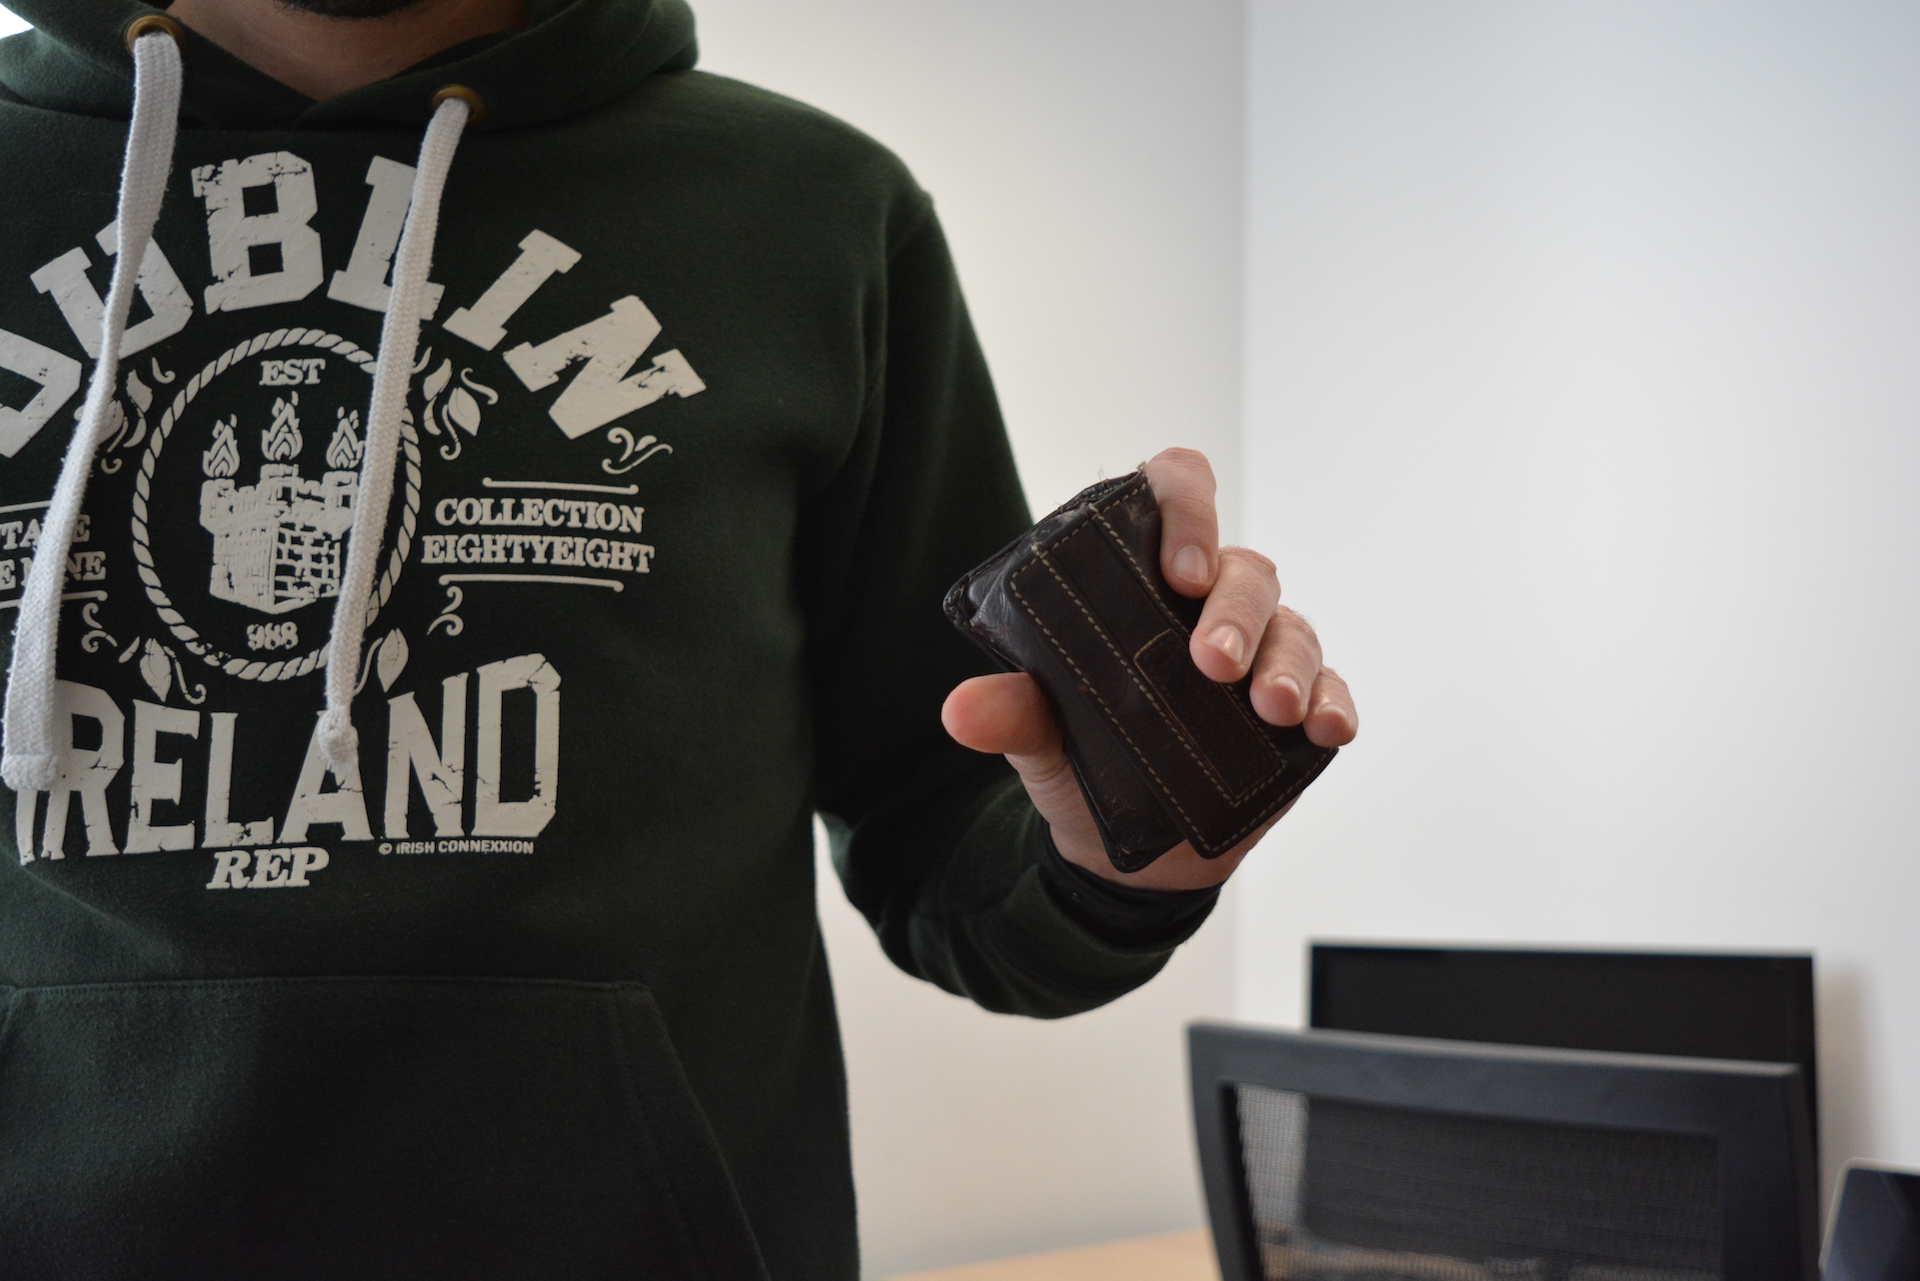monedero: (939, 466, 1342, 881)
